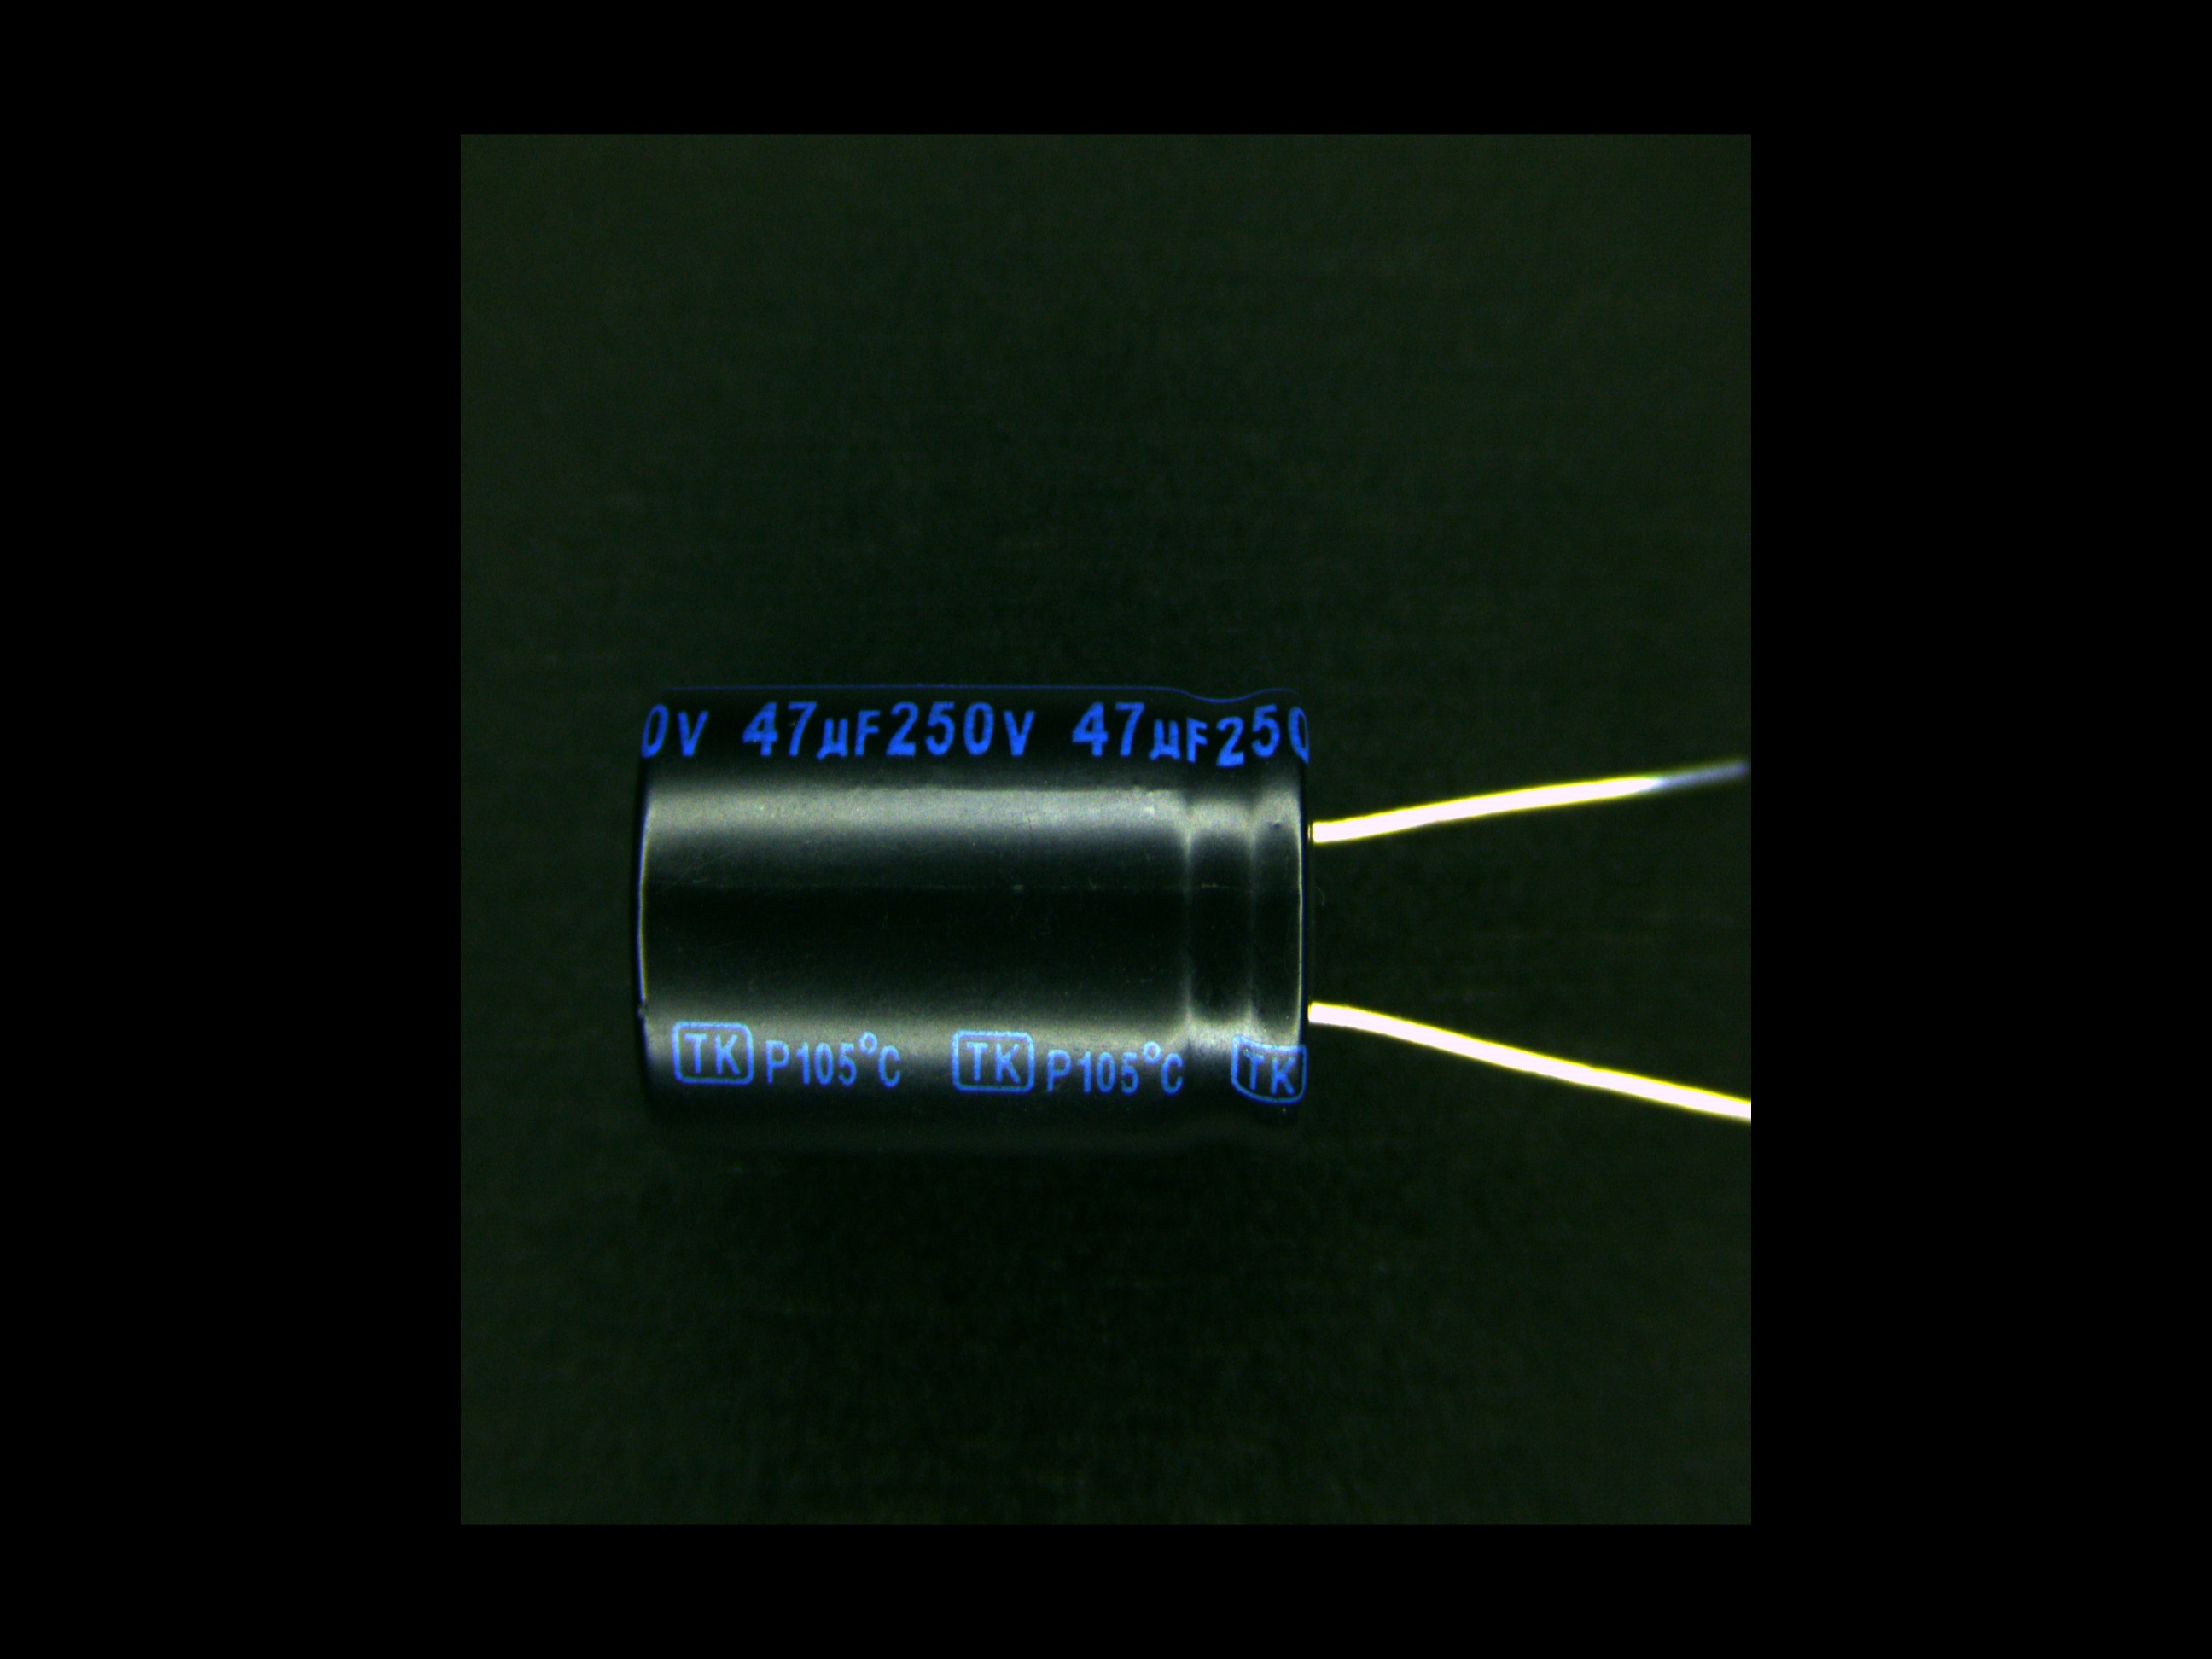c2: (625, 683, 1411, 1147)
